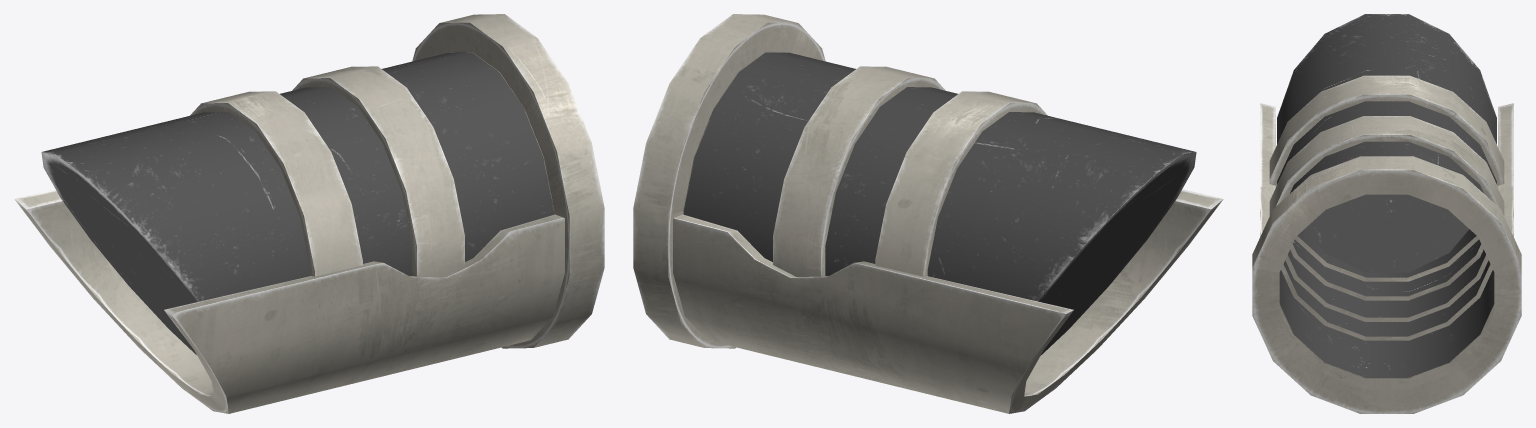
File: pommel_2_c_a.glb
The picture shows the model from 3 angles, left to right: view 1: azimuth 30°, elevation 25°; view 2: azimuth 150°, elevation 25°; view 3: azimuth 270°, elevation 25°; orthographic projection. The views are drawn at different scales.
Parts seen in each view (by area): view 1: pommel_2_c_a_lod0; view 2: pommel_2_c_a_lod0; view 3: pommel_2_c_a_lod0.
Boxes of the visible parts, box(x1,y1,x2,y2) form: pommel_2_c_a_lod0: box(14, 14, 604, 413); pommel_2_c_a_lod0: box(633, 14, 1223, 413); pommel_2_c_a_lod0: box(1252, 14, 1521, 413).
Size of what is drawn, in the model's own units: 0.0484 by 0.0308 by 0.0308.
Materials: 1 (1 with a texture image).
